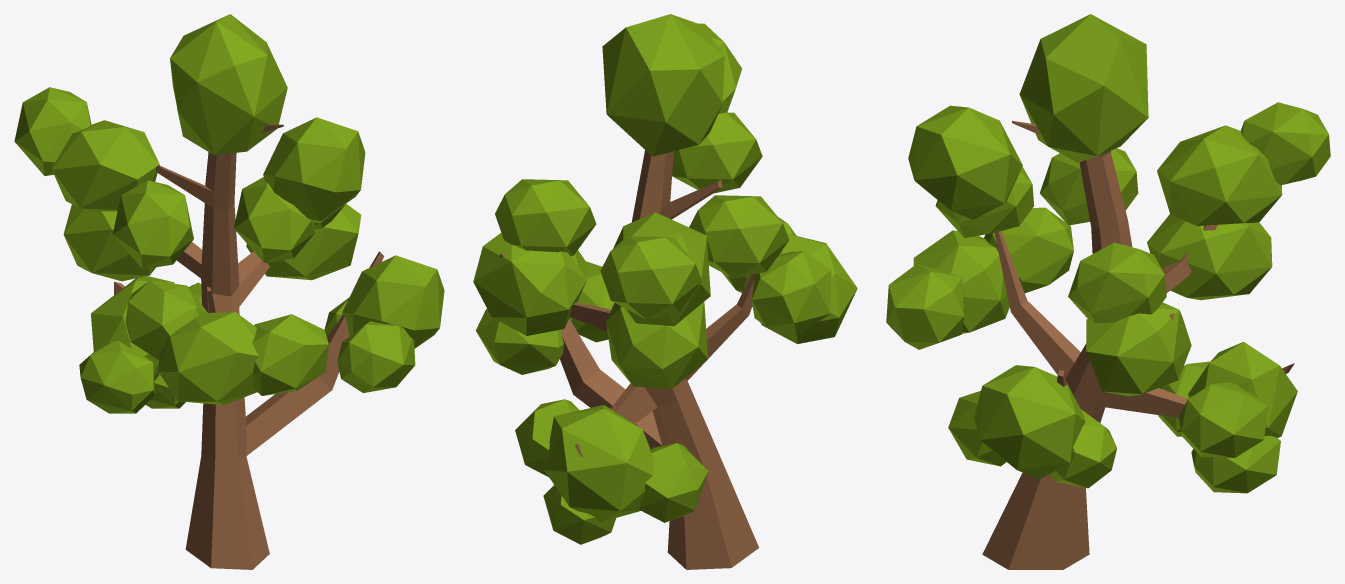
Rendered from tree8.gltf.
The picture shows the model from 3 angles, left to right: view 1: azimuth 30°, elevation 25°; view 2: azimuth 150°, elevation 25°; view 3: azimuth 270°, elevation 25°; orthographic projection. The views are drawn at different scales.
Parts seen in each view (by area): view 1: Sphere.004_276, Sphere.001_275; view 2: Sphere.004_276, Sphere.001_275; view 3: Sphere.004_276, Sphere.001_275.
Boxes of the visible parts, left/top/right/bottom form: Sphere.004_276: left=14, top=14, right=444, bottom=413; Sphere.001_275: left=114, top=124, right=383, bottom=569; Sphere.004_276: left=473, top=14, right=857, bottom=544; Sphere.001_275: left=499, top=32, right=758, bottom=569; Sphere.004_276: left=886, top=14, right=1330, bottom=493; Sphere.001_275: left=982, top=36, right=1294, bottom=569.
Size of the model in its own units: 1.08 by 1.68 by 1.23.
